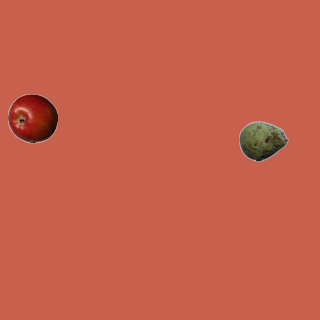Apple Braeburn: (7, 93, 57, 143)
Pear Stone: (238, 116, 288, 166)
